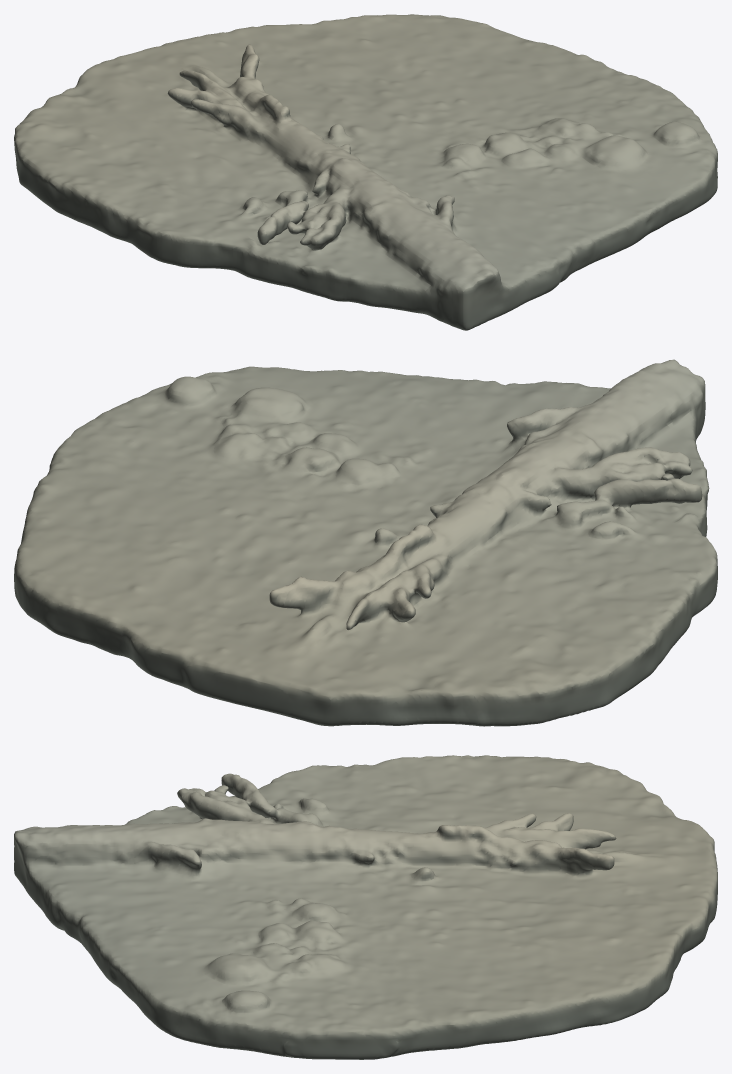
The model's file is kastave-reconstruction-web-COmvH5Jf.glb.
The picture shows the model from 3 angles, top to bottom: view 1: azimuth 30°, elevation 25°; view 2: azimuth 150°, elevation 25°; view 3: azimuth 270°, elevation 25°; orthographic projection. The views are drawn at different scales.
Parts seen in each view (by area): view 1: Kastave sonar reconstruction; view 2: Kastave sonar reconstruction; view 3: Kastave sonar reconstruction.
Boxes of the visible parts, x1,y1,x2,y2 form: Kastave sonar reconstruction: (14, 14, 717, 330); Kastave sonar reconstruction: (14, 359, 717, 726); Kastave sonar reconstruction: (14, 755, 717, 1059).
Bounding box in the file's own units: 1.83 × 0.2072 × 1.96.
